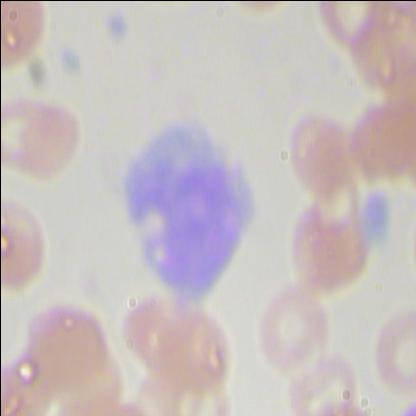Platelets: (98, 6, 130, 42), (56, 40, 88, 76), (364, 188, 396, 224)
RBC: (110, 290, 197, 396), (280, 194, 374, 292), (262, 97, 356, 195), (12, 93, 106, 191), (164, 297, 250, 403), (27, 288, 105, 394), (255, 284, 331, 384), (342, 95, 415, 191), (0, 186, 60, 293), (284, 334, 362, 415), (0, 85, 62, 173), (365, 297, 415, 400), (158, 362, 244, 415), (0, 1, 54, 77)
WBC: (110, 106, 260, 306)
